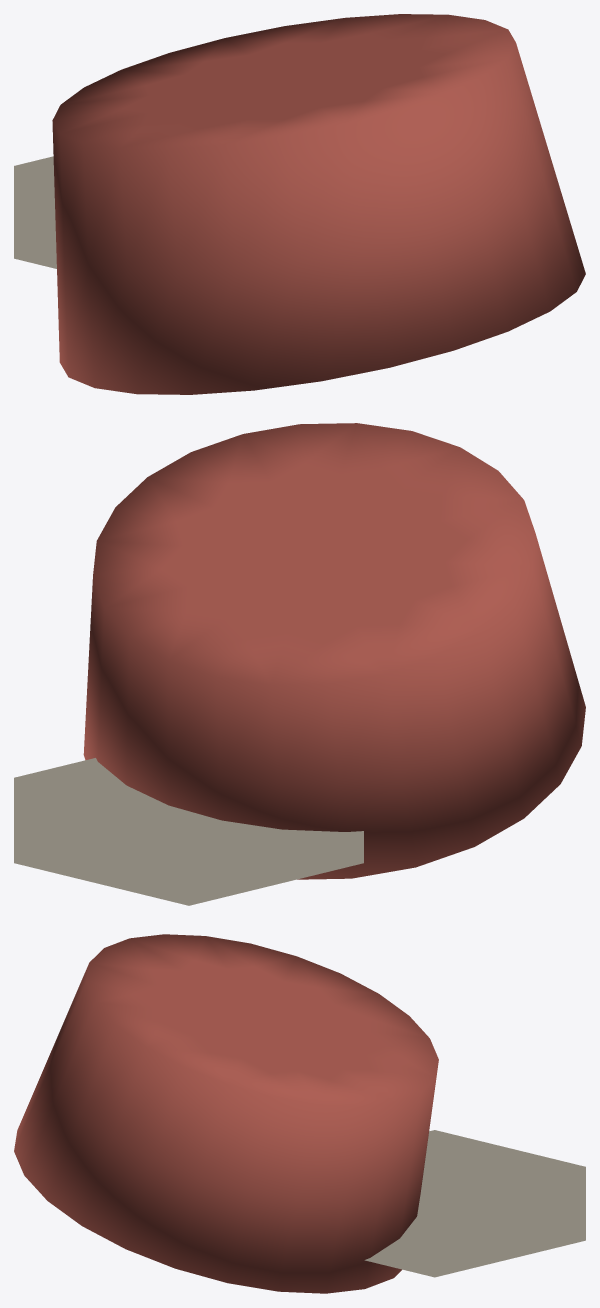
The model's file is ChauNhua.glb.
3 renders of one model, top to bottom at view 1: azimuth 30°, elevation 25°; view 2: azimuth 150°, elevation 25°; view 3: azimuth 270°, elevation 25°, orthographic. The views are drawn at different scales.
Visible parts, largest first — view 1: ChauNhua; view 2: ChauNhua; view 3: ChauNhua.
Part boxes in pixels (box(x1,y1,x2,y2)): ChauNhua: box(14, 14, 585, 394); ChauNhua: box(14, 423, 585, 905); ChauNhua: box(14, 934, 585, 1293).
Size of the model in its own units: 0.3987 by 0.2627 by 0.5242.
